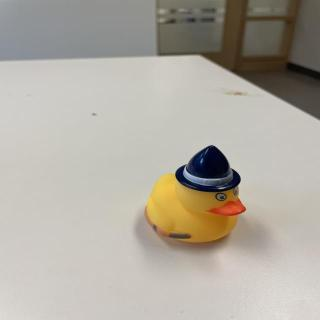duck_specialty: (143, 145, 249, 245)
